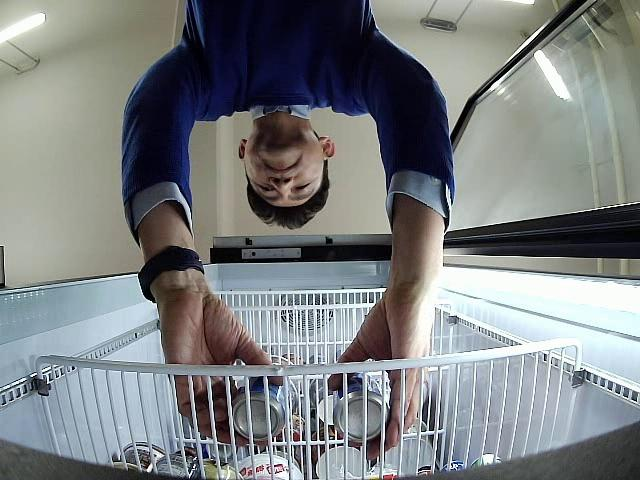00_hand: (152, 288, 284, 443), (329, 282, 443, 460)
15_letsbe: (335, 372, 390, 443), (234, 383, 284, 440)
